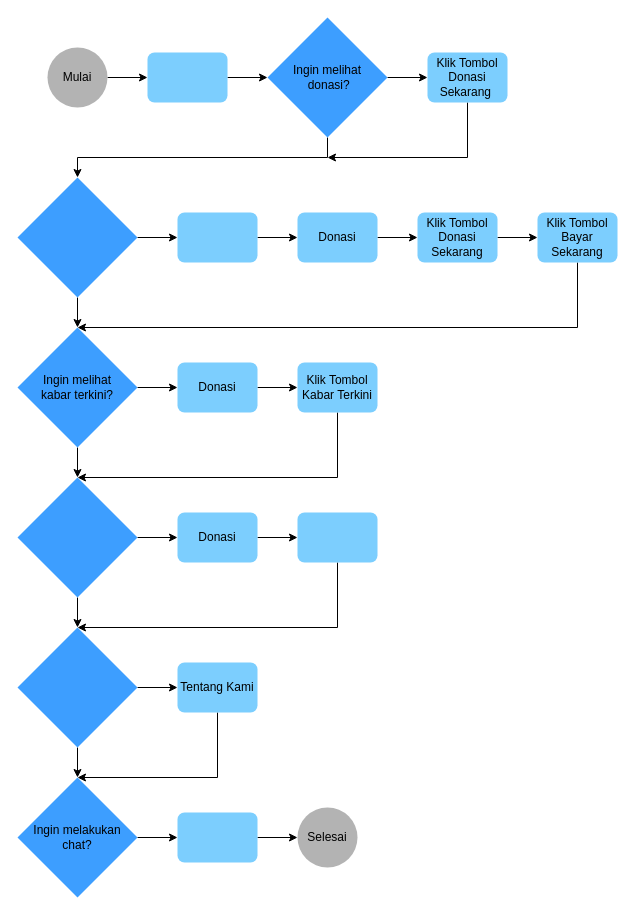
The diagram is 634 pixels wide and 914 high, and some of its shapes have lost their labels. Here are the shapes that lost their labels. From the top down, the centre of each, then its label:
[187,77]: Home
[77,237]: Ingin berdonasi?
[217,237]: Login
[77,537]: Ingin melihat laporan donasi?
[337,537]: Klik Tombol Laporan Donasi
[77,687]: Ingin tahu tentang kami?
[217,837]: Klik Tombol Whatsapp
